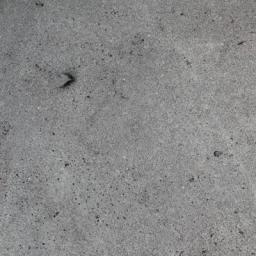FOD: (54, 72, 76, 91)
